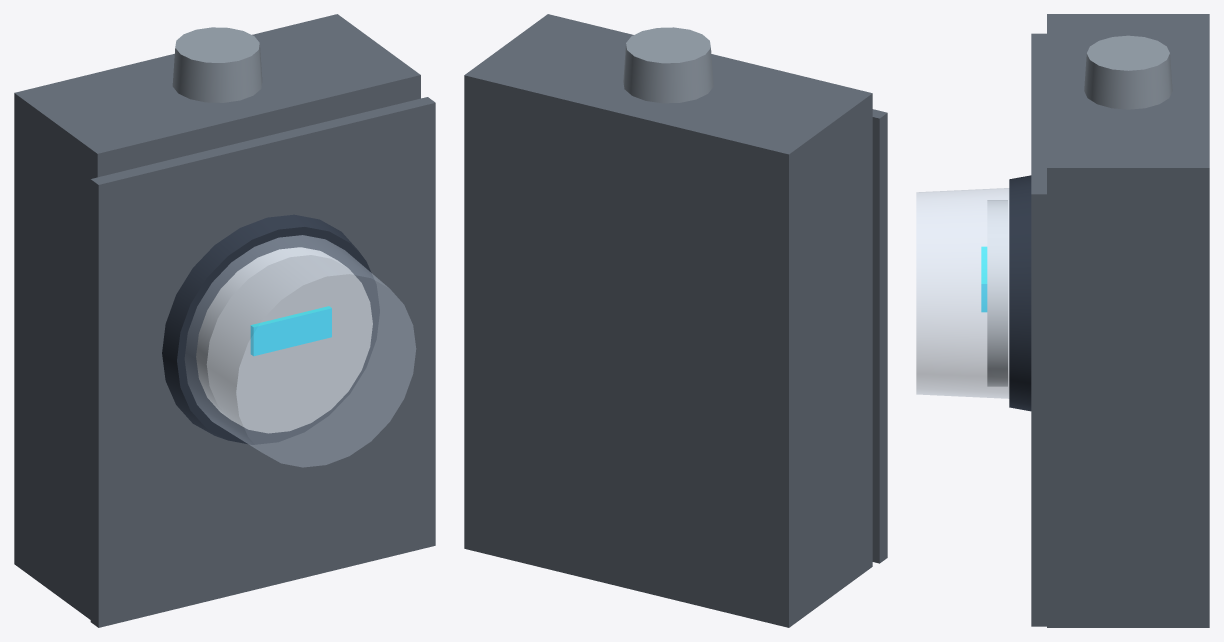
3 renders of one model, left to right at view 1: azimuth 30°, elevation 25°; view 2: azimuth 150°, elevation 25°; view 3: azimuth 270°, elevation 25°, orthographic. The views are drawn at different scales.
Visible parts, largest first — view 1: cad-meter-socket-200a; view 2: cad-meter-socket-200a; view 3: cad-meter-socket-200a.
Part boxes in pixels (x1,y1,x2,y2): cad-meter-socket-200a: [14, 14, 435, 627]; cad-meter-socket-200a: [464, 14, 887, 627]; cad-meter-socket-200a: [916, 14, 1209, 627].
Size of the model in its own units: 0.292 by 0.422 by 0.2255.
